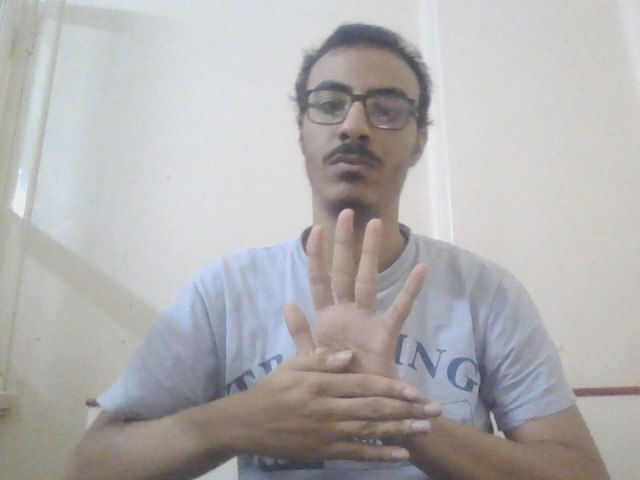Movie: (241, 206, 449, 475)
